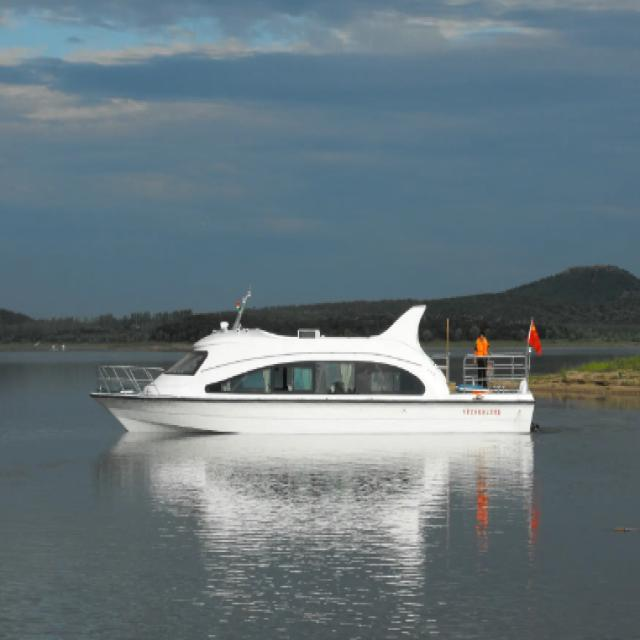houseboat: (88, 294, 544, 441)
